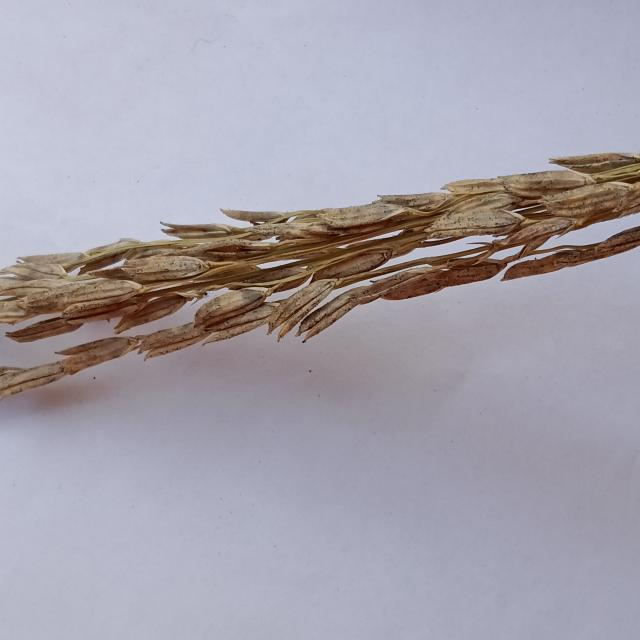Neck_Blast: (11, 161, 639, 340), (3, 224, 640, 395)
